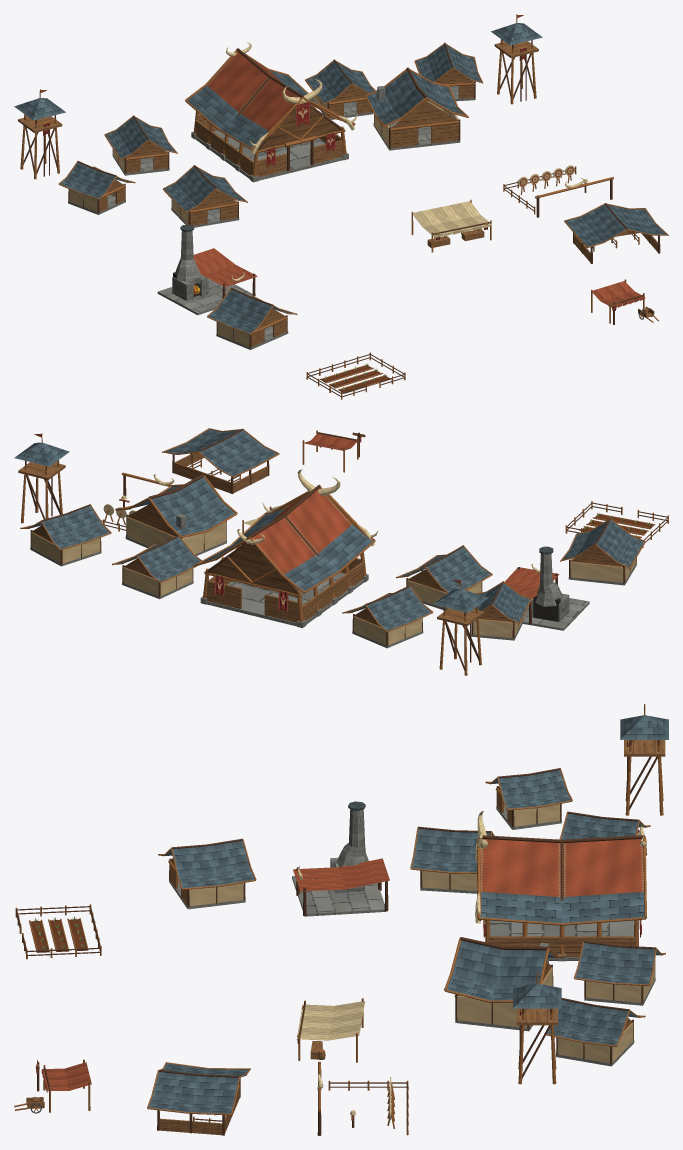
The model's file is phase_4_lod1.glb.
3 views of the same model, one above another, from view 1: azimuth 30°, elevation 25°; view 2: azimuth 150°, elevation 25°; view 3: azimuth 270°, elevation 25° (orthographic). The views are drawn at different scales.
Visible parts, largest first — view 1: hall_LOD1_F4, tavern_LOD1_F4, forge_LOD1_F4, store_LOD1_F4, workshop_LOD1_F4, stable_LOD1_F4, house_a_LOD1_F4, house_c_LOD1_F4, house_b_LOD1_F4, market_LOD1_F4, house_d_LOD1_F4, tower_e_LOD1_F4 (+4 smaller); view 2: hall_LOD1_F4, tavern_LOD1_F4, stable_LOD1_F4, workshop_LOD1_F4, house_d_LOD1_F4, house_c_LOD1_F4, forge_LOD1_F4, house_a_LOD1_F4, store_LOD1_F4, house_b_LOD1_F4, tower_LOD1_F4, tower_e_LOD1_F4 (+3 smaller); view 3: hall_LOD1_F4, tavern_LOD1_F4, forge_LOD1_F4, stable_LOD1_F4, workshop_LOD1_F4, house_d_LOD1_F4, house_c_LOD1_F4, store_LOD1_F4, house_b_LOD1_F4, tower_e_LOD1_F4, market_LOD1_F4, tower_LOD1_F4 (+4 smaller).
Boxes of the visible parts, x1=… form: hall_LOD1_F4: x1=185, y1=42, x2=357, y2=182; tavern_LOD1_F4: x1=365, y1=67, x2=468, y2=150; forge_LOD1_F4: x1=157, y1=224, x2=257, y2=315; store_LOD1_F4: x1=162, y1=165, x2=247, y2=227; workshop_LOD1_F4: x1=207, y1=287, x2=297, y2=349; stable_LOD1_F4: x1=564, y1=203, x2=668, y2=263; house_a_LOD1_F4: x1=104, y1=115, x2=177, y2=175; house_c_LOD1_F4: x1=305, y1=59, x2=375, y2=119; house_b_LOD1_F4: x1=58, y1=161, x2=135, y2=214; market_LOD1_F4: x1=411, y1=199, x2=491, y2=252; house_d_LOD1_F4: x1=414, y1=42, x2=483, y2=101; tower_e_LOD1_F4: x1=491, y1=14, x2=542, y2=104; hall_LOD1_F4: x1=193, y1=469, x2=378, y2=628; tavern_LOD1_F4: x1=115, y1=474, x2=237, y2=555; stable_LOD1_F4: x1=162, y1=428, x2=279, y2=493; workshop_LOD1_F4: x1=560, y1=518, x2=645, y2=585; house_d_LOD1_F4: x1=20, y1=504, x2=111, y2=566; house_c_LOD1_F4: x1=112, y1=535, x2=201, y2=599; forge_LOD1_F4: x1=504, y1=546, x2=589, y2=630; house_a_LOD1_F4: x1=342, y1=585, x2=433, y2=648; store_LOD1_F4: x1=396, y1=545, x2=492, y2=610; house_b_LOD1_F4: x1=471, y1=581, x2=531, y2=640; tower_LOD1_F4: x1=433, y1=579, x2=488, y2=675; tower_e_LOD1_F4: x1=14, y1=433, x2=69, y2=523; hall_LOD1_F4: x1=475, y1=811, x2=647, y2=961; tavern_LOD1_F4: x1=444, y1=937, x2=564, y2=1031; forge_LOD1_F4: x1=292, y1=801, x2=389, y2=916; stable_LOD1_F4: x1=147, y1=1062, x2=250, y2=1135; workshop_LOD1_F4: x1=158, y1=838, x2=256, y2=909; house_d_LOD1_F4: x1=546, y1=998, x2=645, y2=1066; house_c_LOD1_F4: x1=574, y1=941, x2=665, y2=1005; store_LOD1_F4: x1=410, y1=826, x2=494, y2=893; house_b_LOD1_F4: x1=485, y1=768, x2=572, y2=829; tower_e_LOD1_F4: x1=513, y1=972, x2=561, y2=1084; market_LOD1_F4: x1=296, y1=998, x2=364, y2=1062; tower_LOD1_F4: x1=620, y1=704, x2=668, y2=815.
Size of what is drawn, in the model's own units: 83.22 by 24.97 by 79.37.
1 material, 1 textured.
